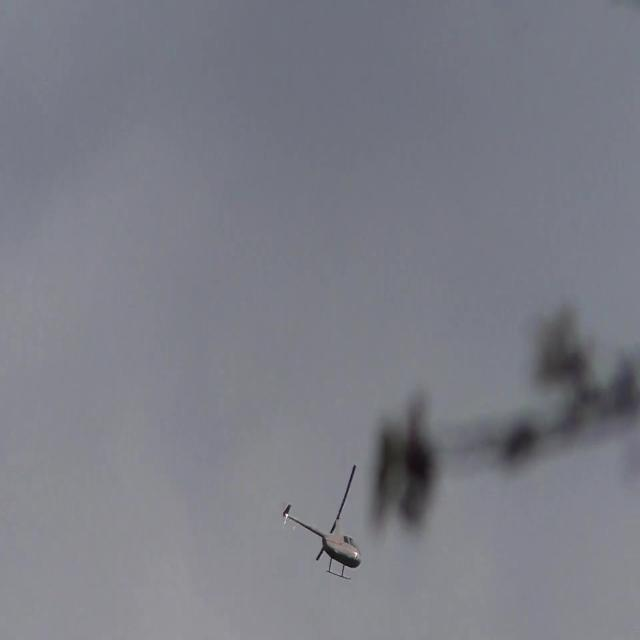CIV_HELO: (282, 499, 363, 582)
